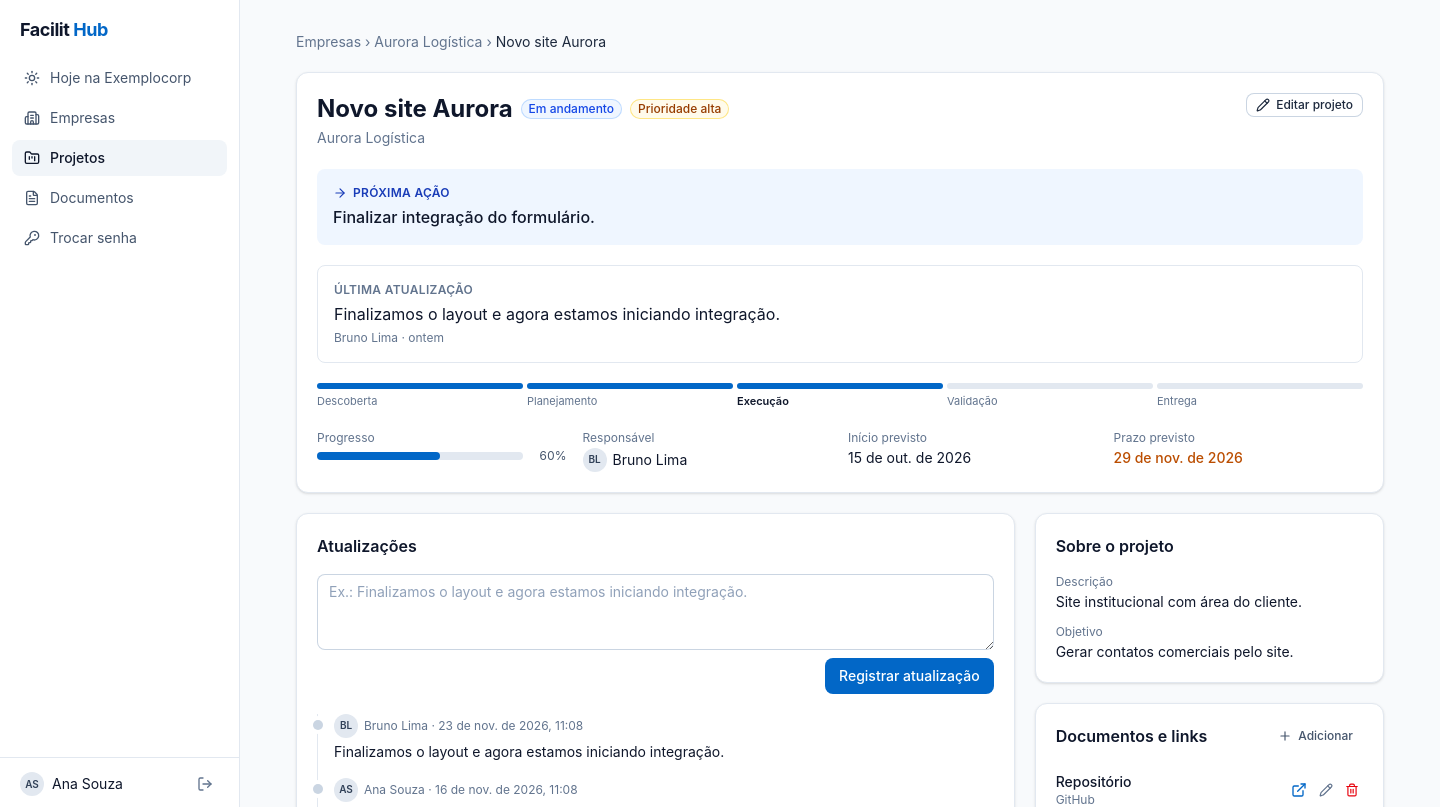
Test: ambiente do projeto › mostra próxima ação e última atualização no topo, e registra nova atualização
This screenshot has width=1440, height=807.
Expected: the heading "Novo site Aurora" is shown, [317, 93, 513, 125]
Expected: the text "Finalizar integração do formulário." is shown, [333, 207, 595, 227]
In the text box named "Nova atualização": (655, 612) [317, 574, 994, 650], type "Formulário integrado, iniciando testes."
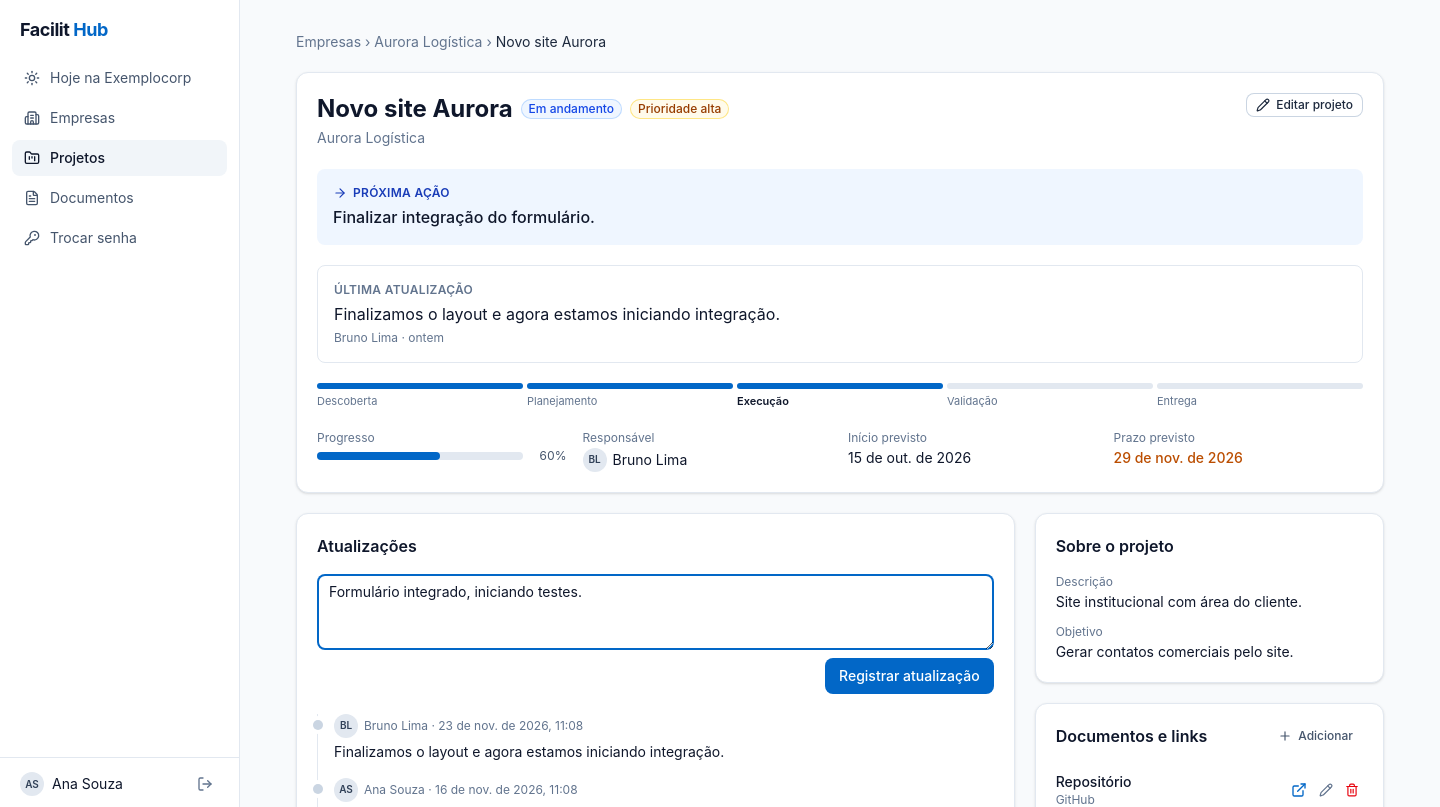
Click the button "Registrar atualização": (909, 676) [825, 658, 994, 694]
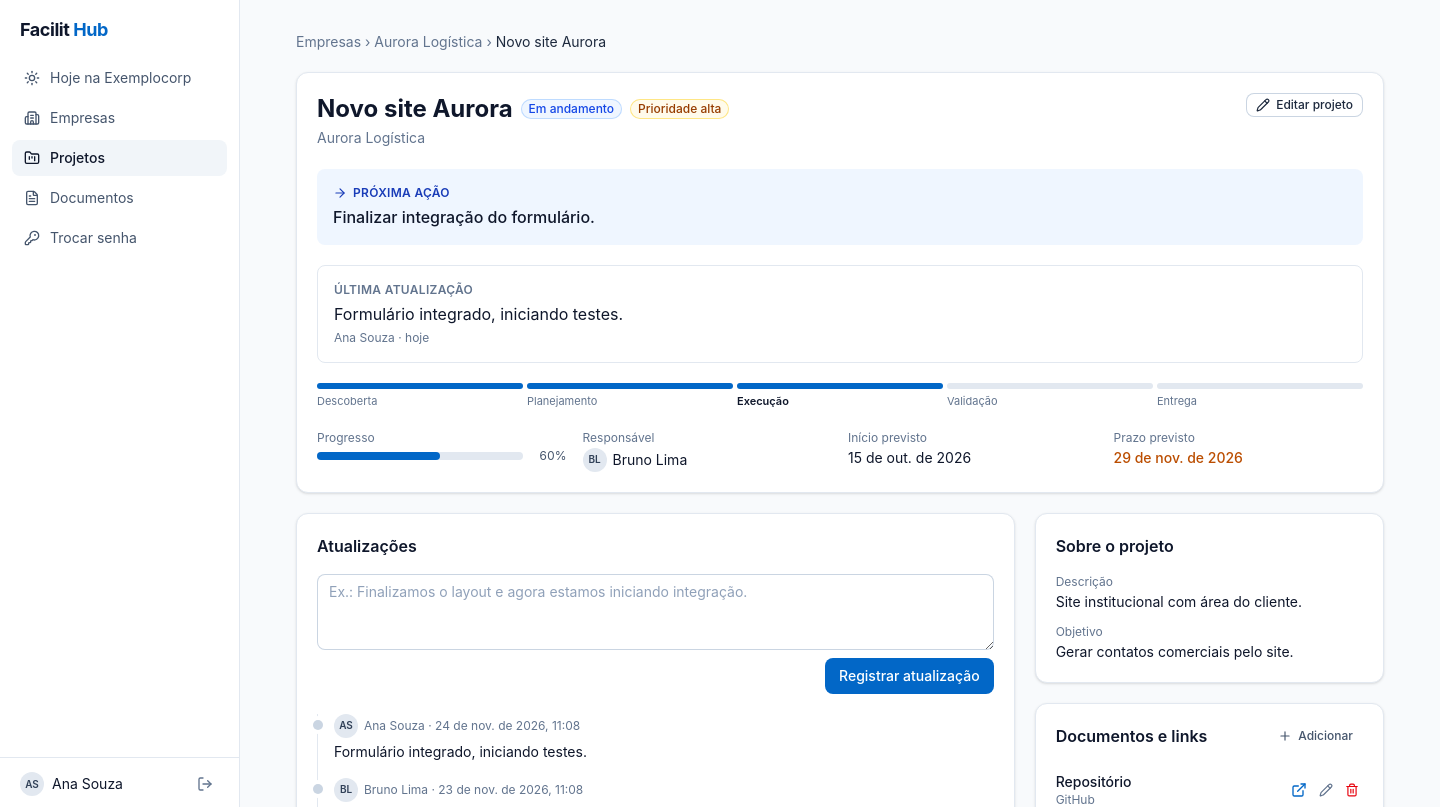
Expected: the text "Formulário integrado, iniciando testes." is shown 2 times, [334, 304, 623, 324]; [334, 742, 587, 760]
Expected: the text box named "Nova atualização" is empty, [317, 574, 994, 650]
